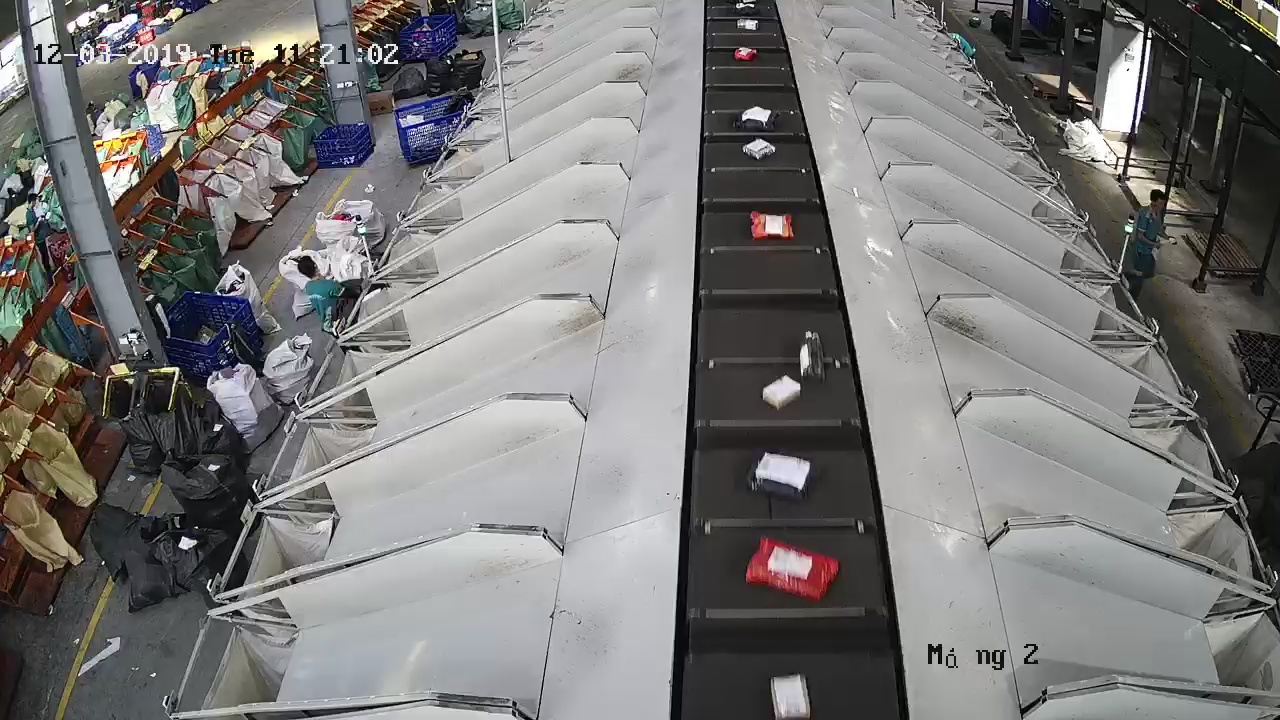parcel: (744, 535, 840, 603), (746, 450, 816, 503), (769, 671, 811, 720), (761, 373, 802, 413), (799, 327, 826, 384), (749, 210, 796, 242)
